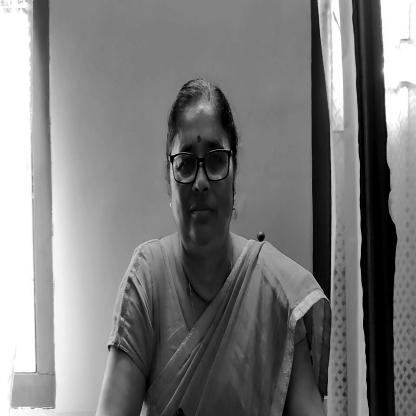Normal: (171, 84, 240, 250)
